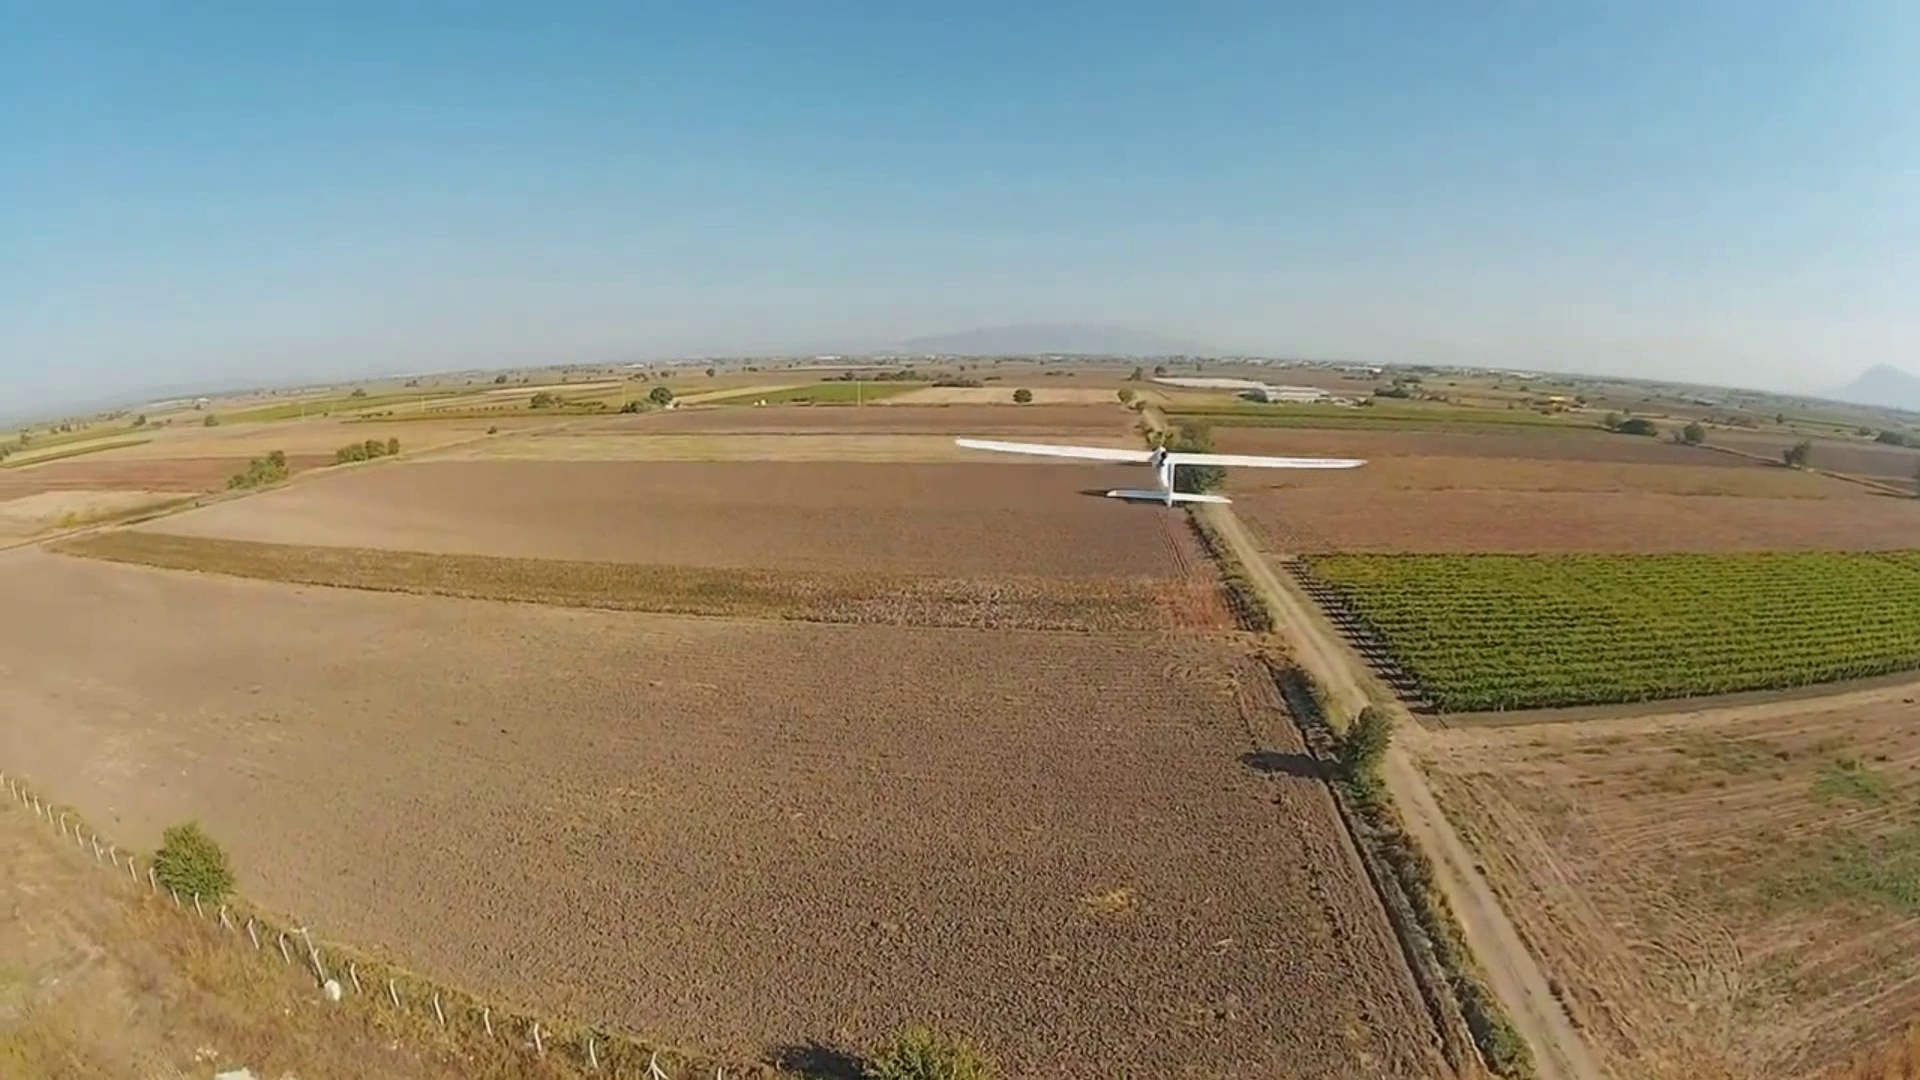airplane: (948, 429, 1367, 513)
